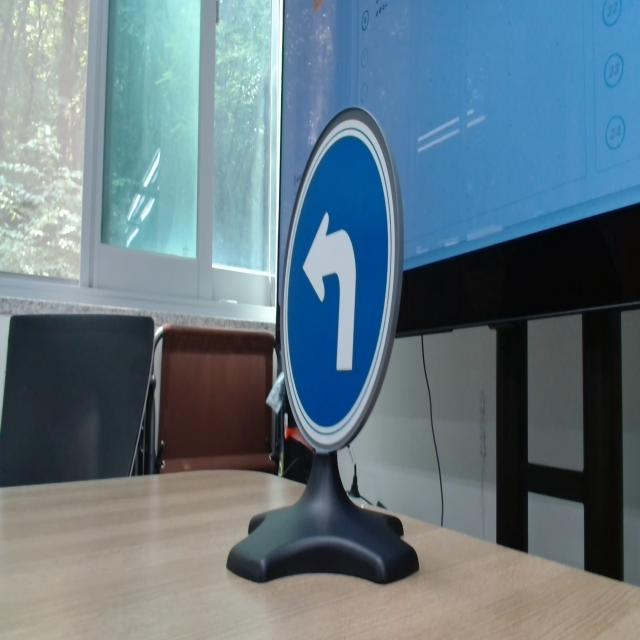left_direction: (276, 97, 404, 448)
